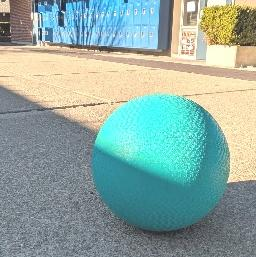algae: (94, 94, 230, 233)
